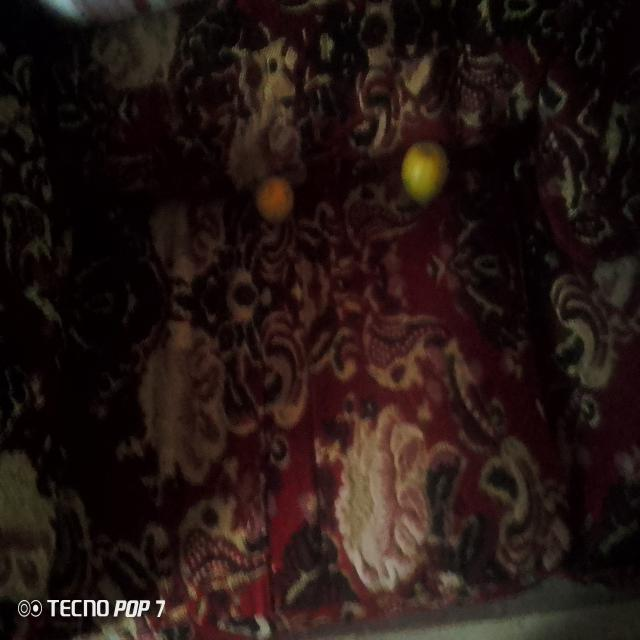Ripe orange: (395, 140, 450, 208), (250, 171, 300, 242)
